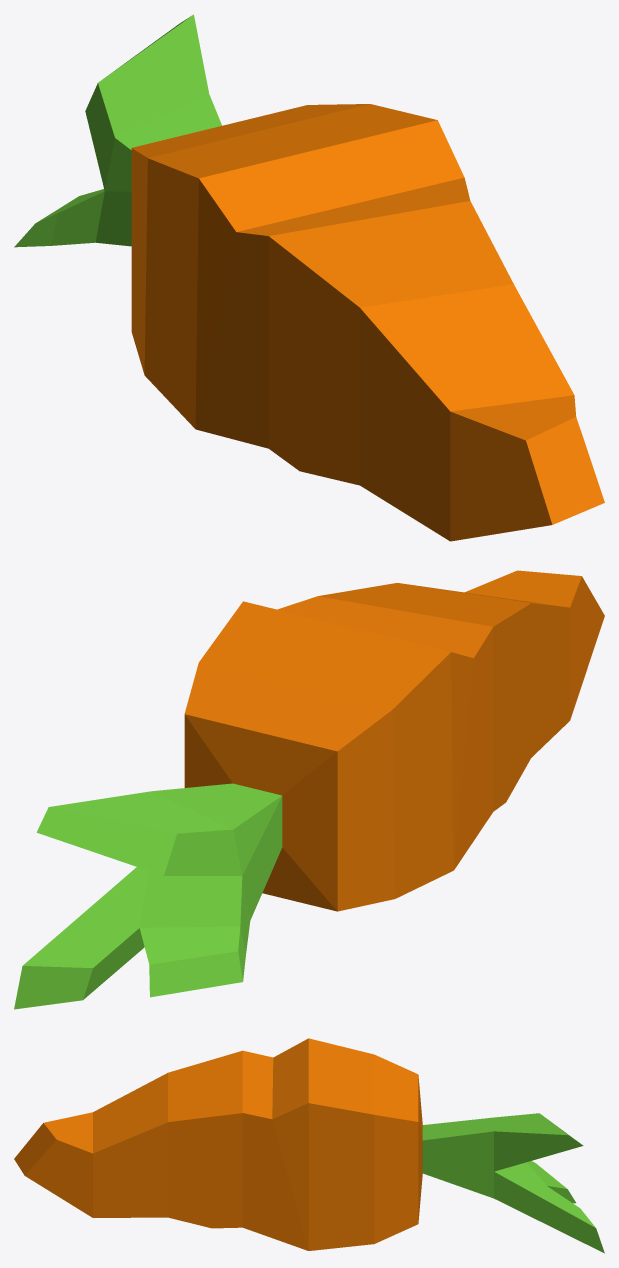
The model's file is MARCHEWA.fbx.
3 views of the same model, one above another, from view 1: azimuth 30°, elevation 25°; view 2: azimuth 150°, elevation 25°; view 3: azimuth 270°, elevation 25° (orthographic). The views are drawn at different scales.
Parts seen in each view (by area): view 1: Cube; view 2: Cube; view 3: Cube.
Part boxes in pixels (bbox=[...]): Cube: bbox=[14, 14, 604, 541]; Cube: bbox=[14, 570, 604, 1009]; Cube: bbox=[14, 1038, 604, 1253].
Bounding box in the file's own units: 223 × 239 × 846.
